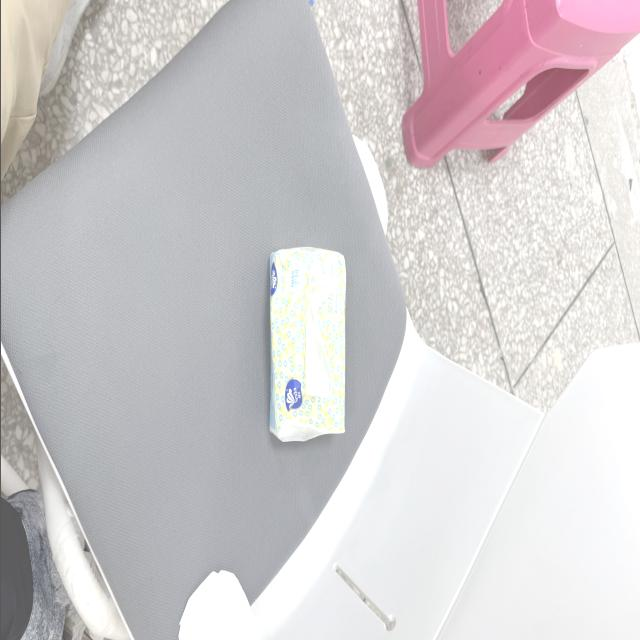tissue: (269, 248, 344, 441), (178, 571, 259, 639), (305, 263, 334, 397), (178, 572, 216, 639)
